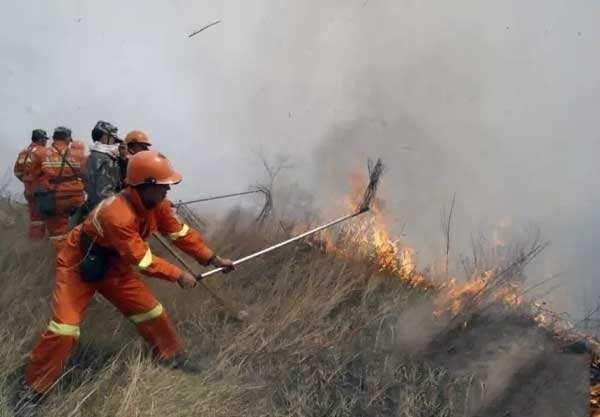fire: (283, 167, 550, 328)
